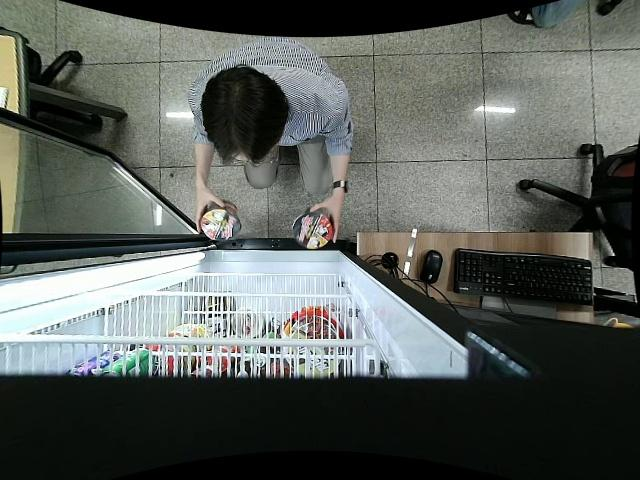00_hand: (193, 181, 229, 233), (309, 194, 345, 246)
07_buldak_L: (293, 205, 335, 249), (199, 204, 240, 243)
